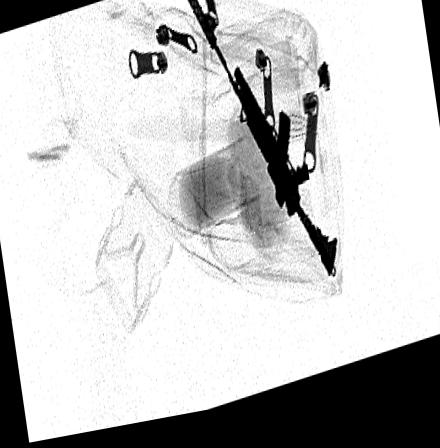Gun: (185, 0, 340, 293)
